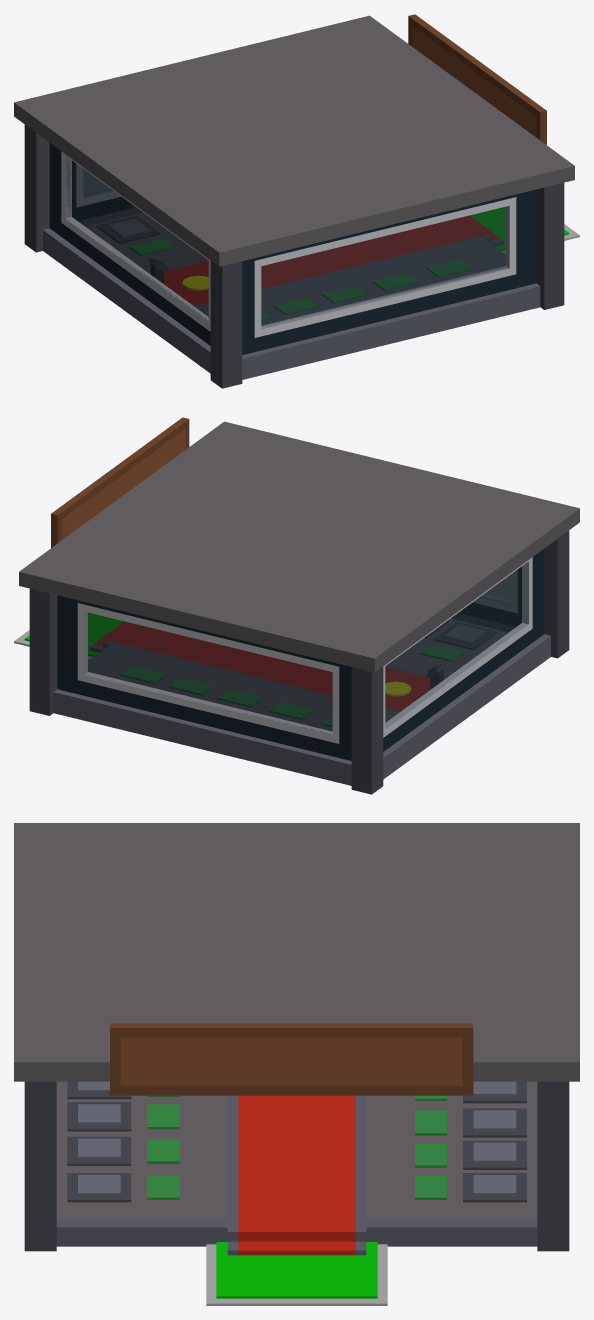
File: BaseOpen.fbx
The picture shows the model from 3 angles, top to bottom: view 1: azimuth 30°, elevation 25°; view 2: azimuth 150°, elevation 25°; view 3: azimuth 270°, elevation 25°; orthographic projection. The views are drawn at different scales.
Visible parts, largest first — view 1: Base; view 2: Base; view 3: Base.
Boxes of the visible parts, x1,y1,x2,y2 form: Base: (14,14,579,388); Base: (14,417,579,794); Base: (14,823,579,1305).
Bounding box in the file's own units: 6413 × 2400 × 5300.
